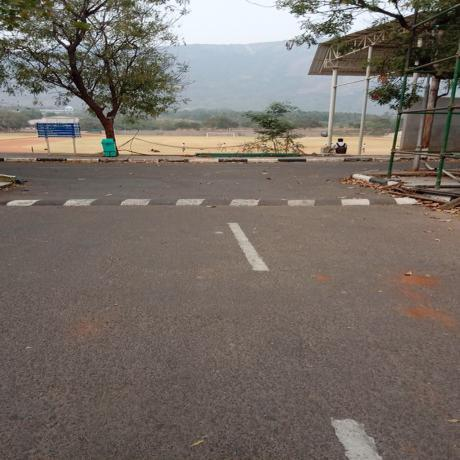Speed Bump: (0, 197, 422, 206)
